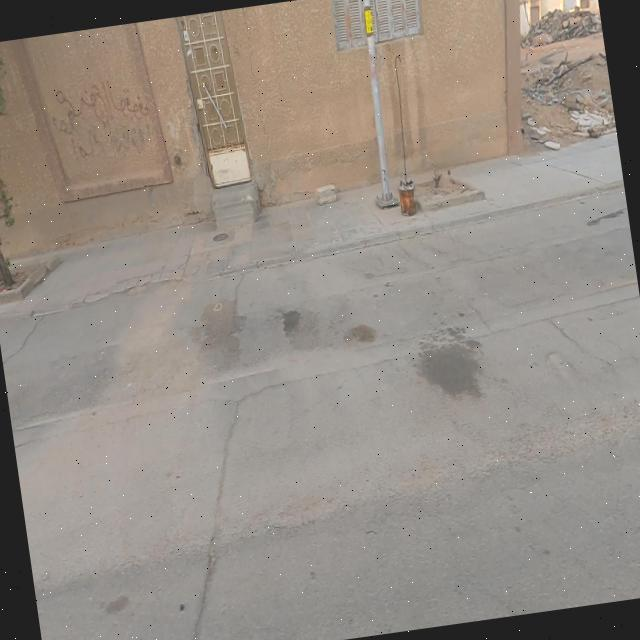Graffiti: (48, 77, 155, 166)
